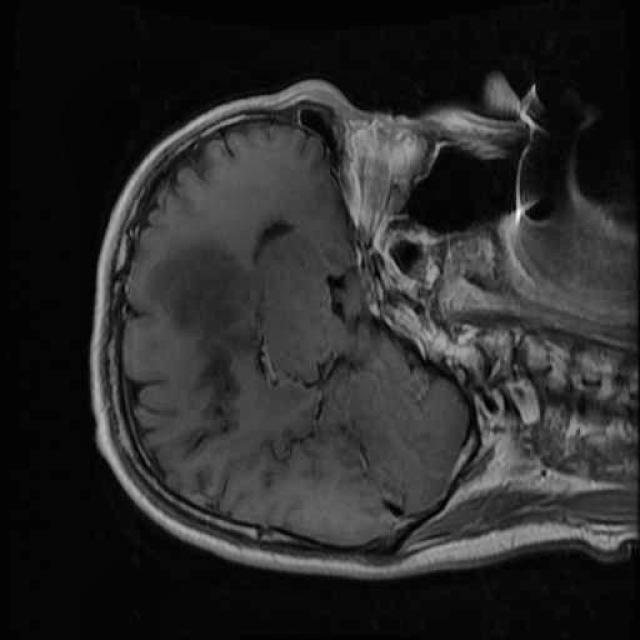Tumor: (136, 221, 266, 444)
